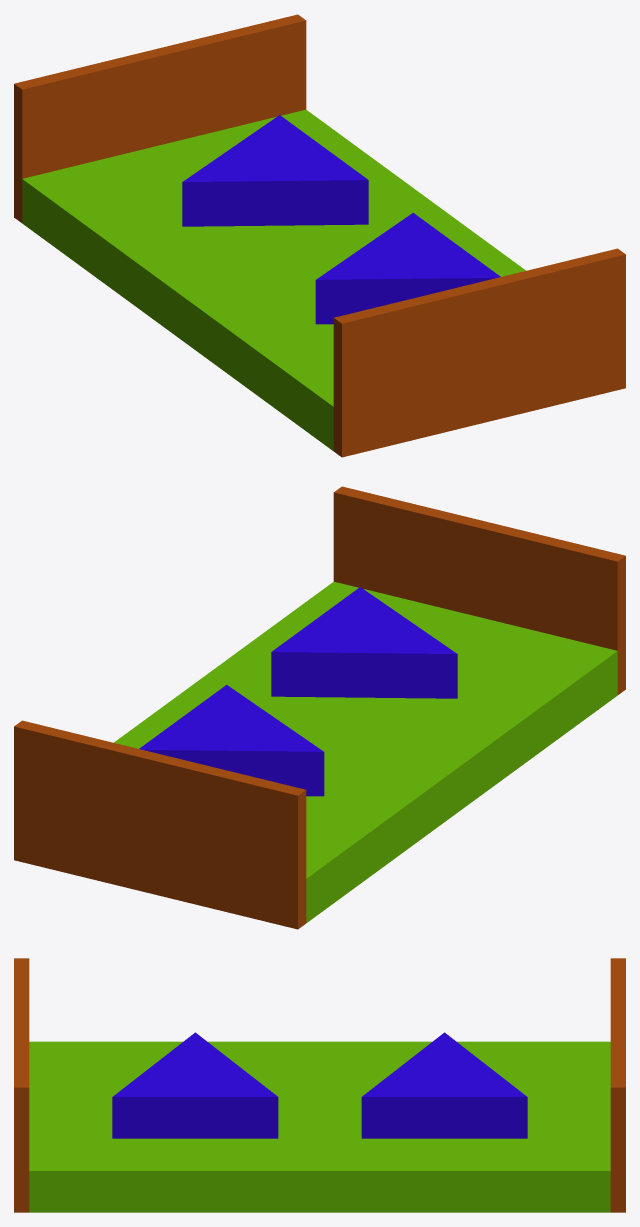
Rendered from triangles_wide.fbx.
The picture shows the model from 3 angles, top to bottom: view 1: azimuth 30°, elevation 25°; view 2: azimuth 150°, elevation 25°; view 3: azimuth 270°, elevation 25°; orthographic projection. The views are drawn at different scales.
Parts seen in each view (by area): view 1: Plane; view 2: Plane; view 3: Plane.
Boxes of the visible parts, <box> form: Plane: <box>14,14,625,457</box>; Plane: <box>14,486,625,929</box>; Plane: <box>14,958,625,1212</box>.
Size of the model in its own units: 200 by 90 by 400.
